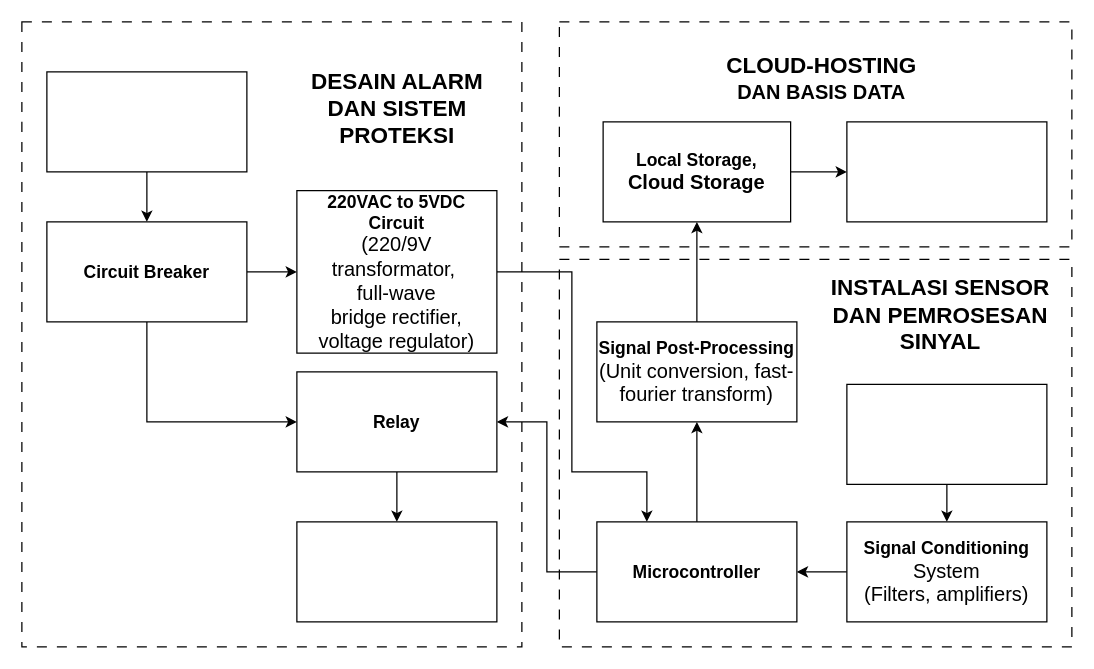
Image size: 1094x669. Some labels were removed from this diagram. The shapes that lost their labels are listed below. From the top down, each one's centre as x and y in pixels, then its label:
At (146,121): "AC Source 220VAC, 50Hz".
At (946,171): "Monitoring Dashboard".
At (946,433): "Sensor System".
At (396,571): "Motor".
